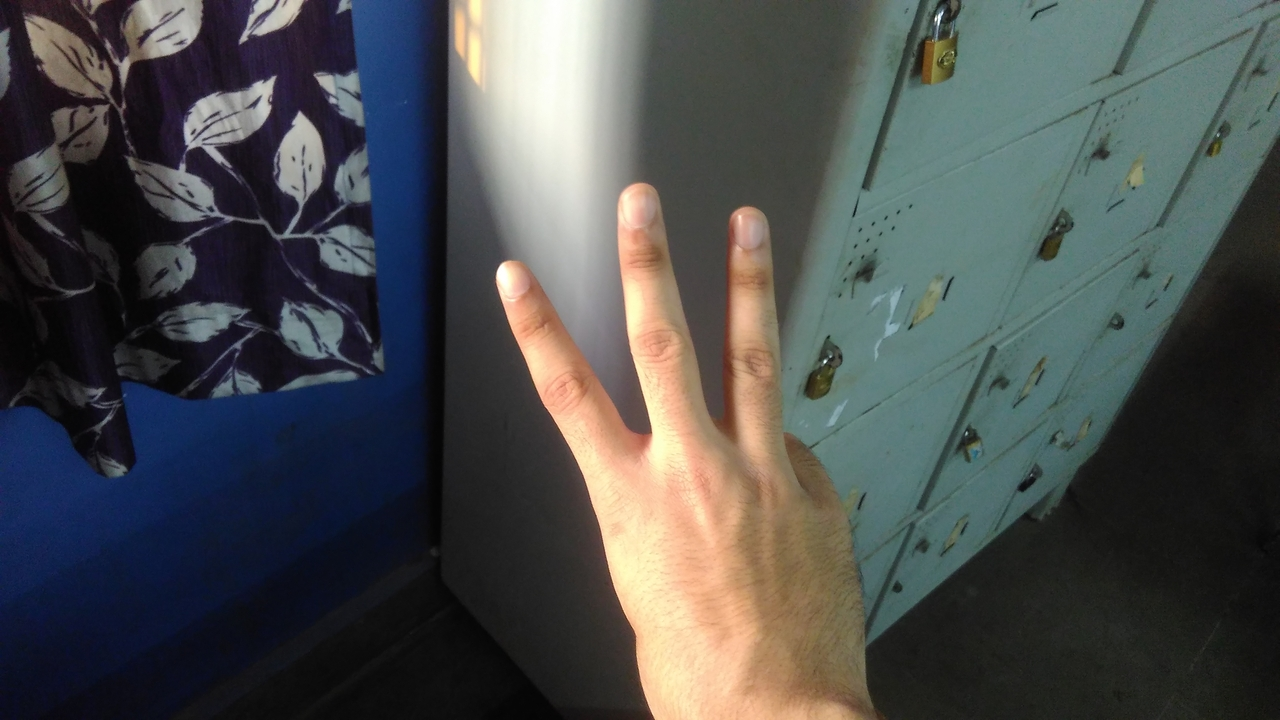fingertip: (608, 176, 670, 240), (484, 250, 544, 312), (718, 198, 778, 258)
